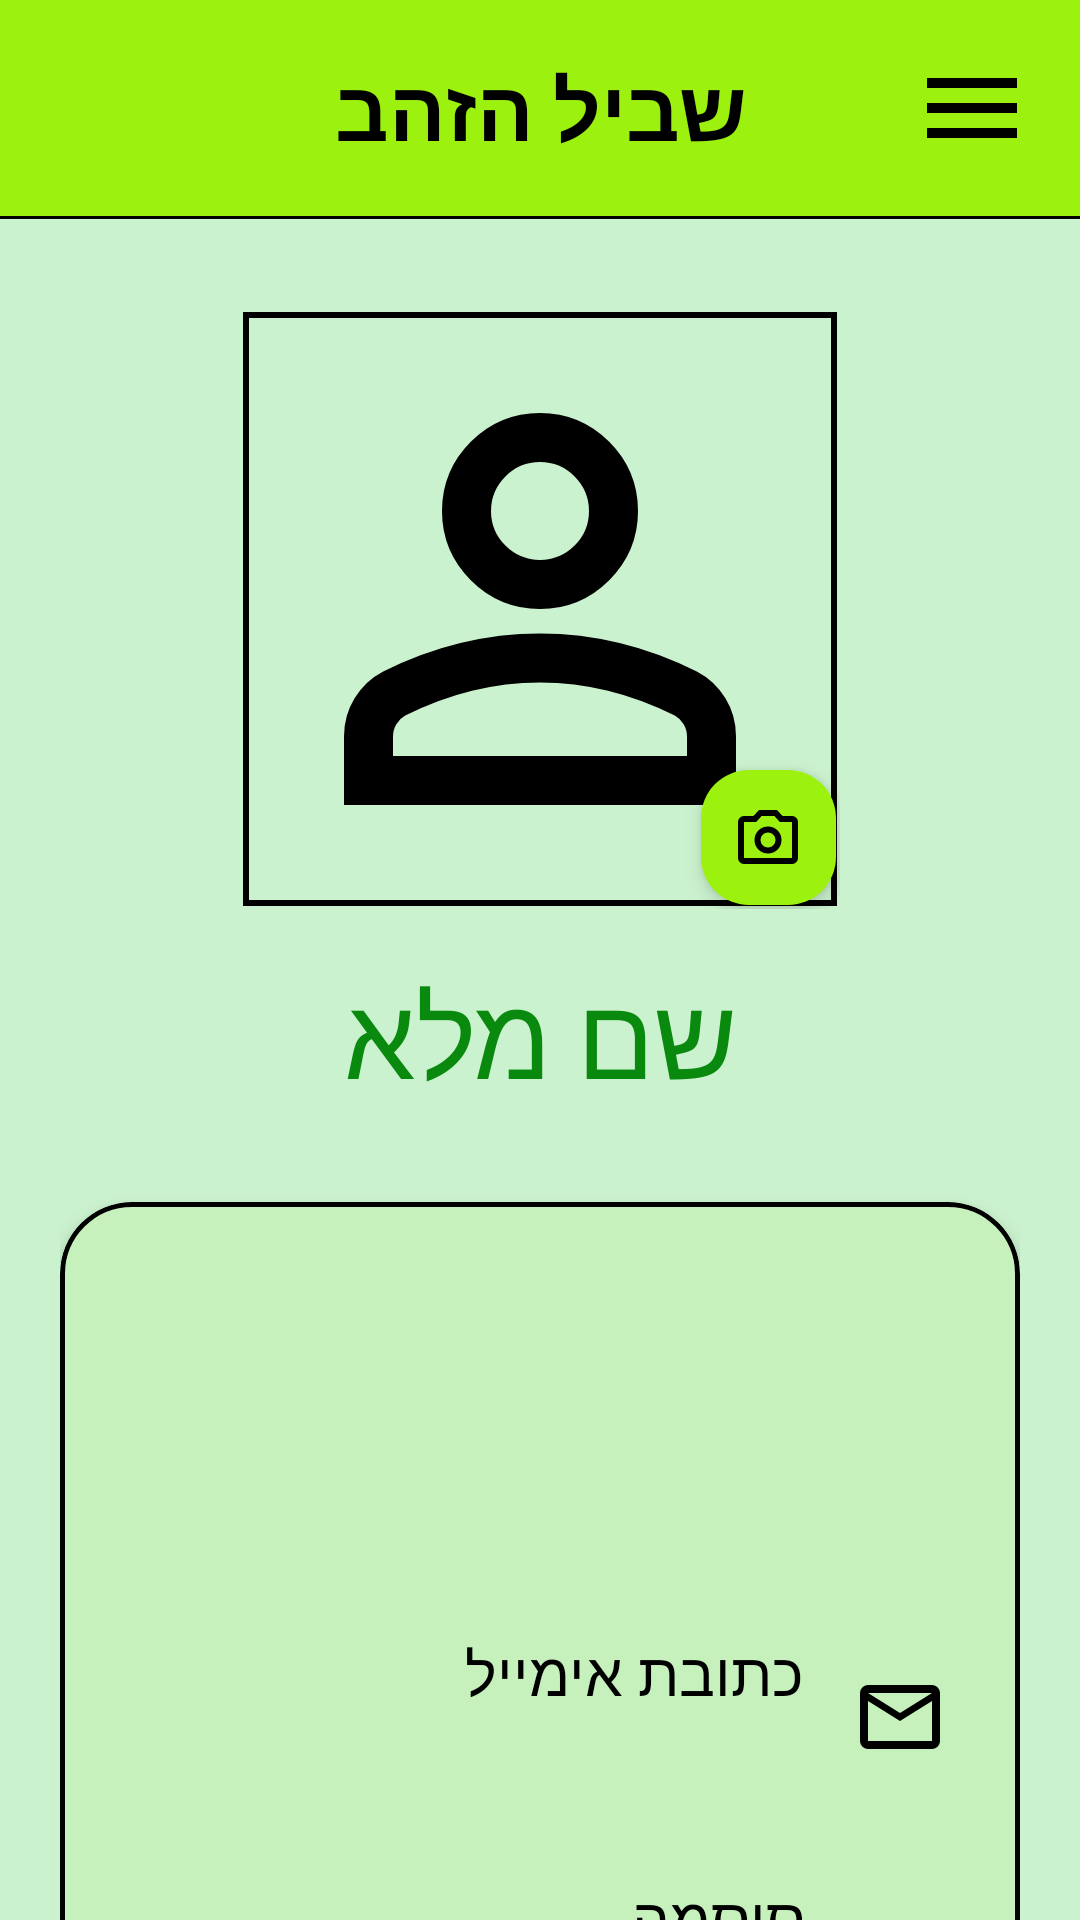

Icons on this 1080 × 1920 Android screen, each with the point to tap as (x=x, y=y):
אייקון אימייל: (x=900, y=1717)
